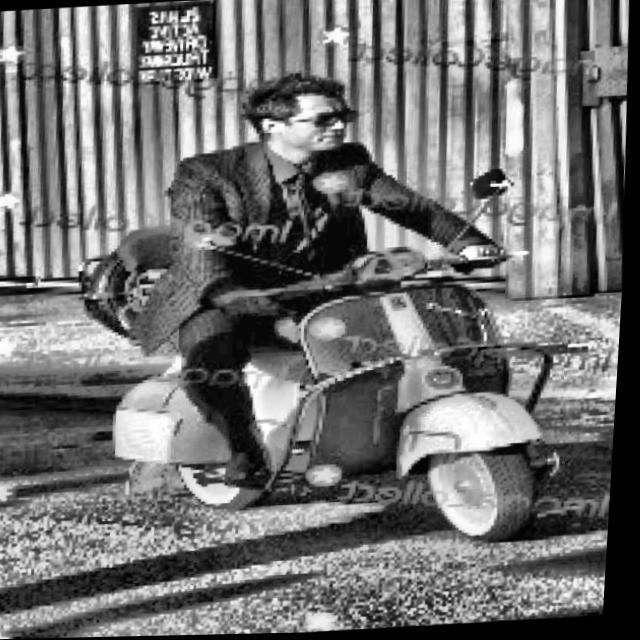motorcycle: (70, 160, 595, 564)
